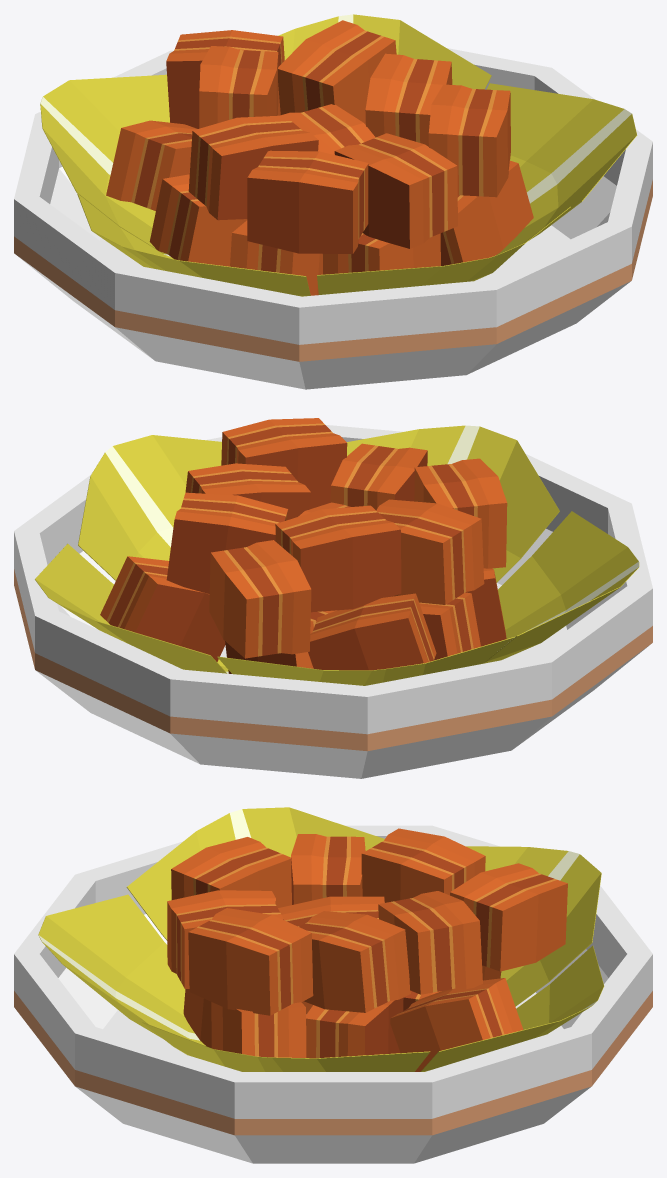
Rendered from FINAL_Adobong Bisaya.fbx.
3 views of the same model, one above another, from view 1: azimuth 30°, elevation 25°; view 2: azimuth 150°, elevation 25°; view 3: azimuth 270°, elevation 25° (orthographic). The views are drawn at different scales.
Parts seen in each view (by area): view 1: Adobong Bisaya; view 2: Adobong Bisaya; view 3: Adobong Bisaya.
Boxes of the visible parts, x1,y1,x2,y2 form: Adobong Bisaya: (14,14,652,389); Adobong Bisaya: (14,418,652,778); Adobong Bisaya: (14,807,652,1163).
Bounding box in the file's own units: 109 × 36.94 × 115.
